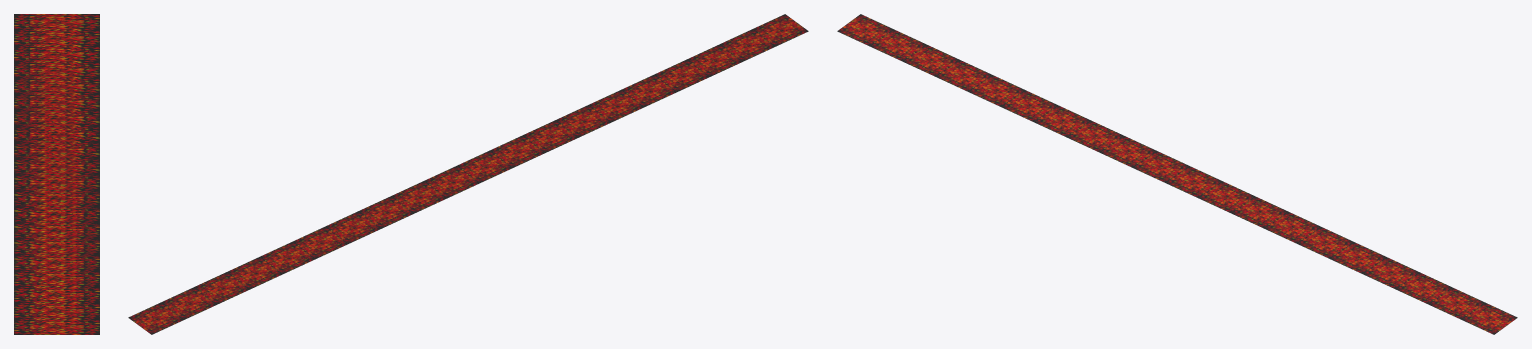
Rendered from OBJ_CourseAki_Floor_2.fbx.
3 renders of one model, left to right at view 1: azimuth 90°, elevation 25°; view 2: azimuth 210°, elevation 25°; view 3: azimuth 330°, elevation 25°, orthographic. The views are drawn at different scales.
Parts seen in each view (by area): view 1: polySurface78; view 2: polySurface78; view 3: polySurface78.
Part boxes in pixels (x1=…): polySurface78: x1=14, y1=14, x2=99, y2=334; polySurface78: x1=128, y1=14, x2=808, y2=334; polySurface78: x1=837, y1=14, x2=1517, y2=334.
Size of the model in its own units: 96 by 20 by 6.
1 material, 1 textured.
